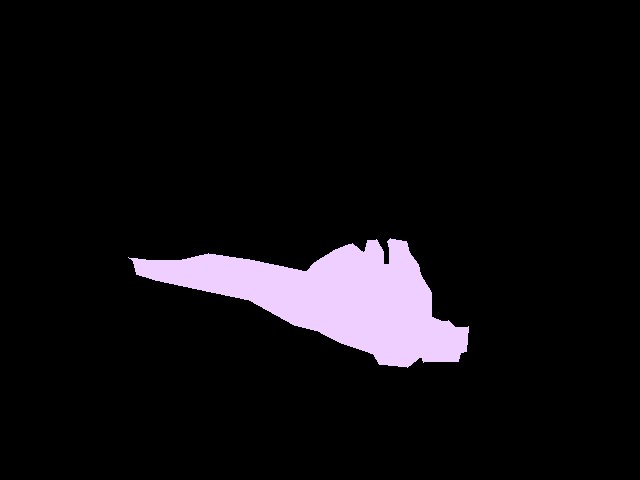Train: (128, 238, 468, 368)
